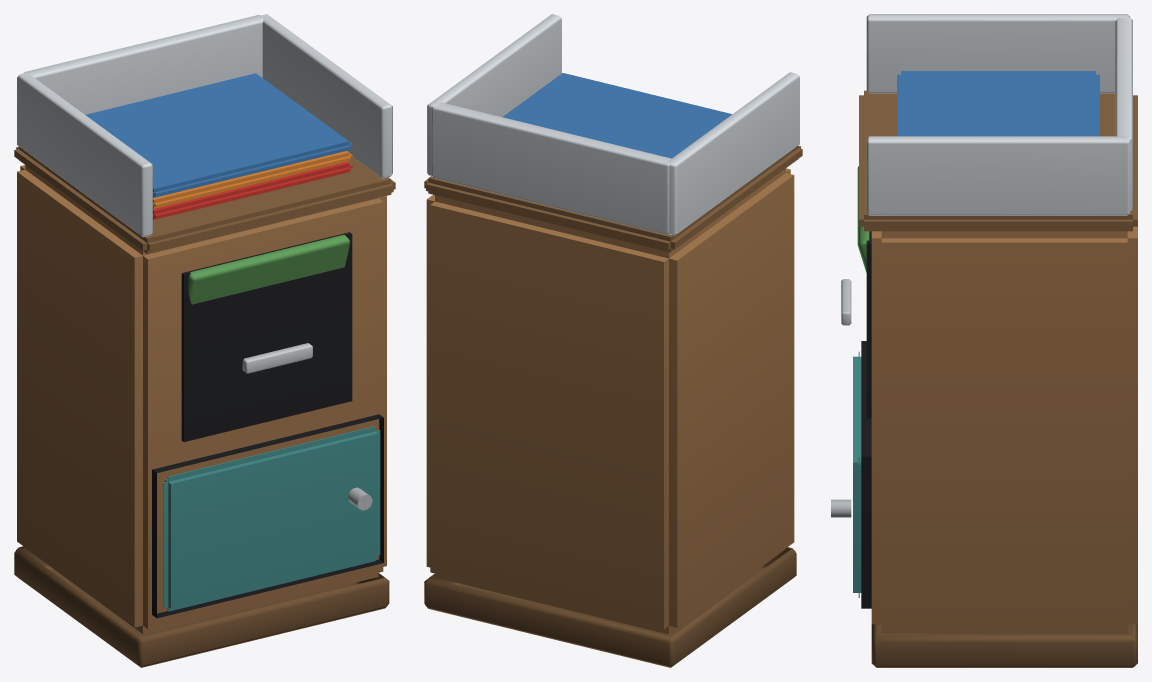
Rendered from SM_TrashStation_Tray_01.glb.
3 renders of one model, left to right at view 1: azimuth 30°, elevation 25°; view 2: azimuth 150°, elevation 25°; view 3: azimuth 270°, elevation 25°, orthographic. The views are drawn at different scales.
Parts seen in each view (by area): view 1: SM_TrashStation_Tray_01; view 2: SM_TrashStation_Tray_01; view 3: SM_TrashStation_Tray_01.
Part boxes in pixels (box(x1,y1,x2,y2)): SM_TrashStation_Tray_01: box(14, 14, 395, 667); SM_TrashStation_Tray_01: box(424, 14, 802, 667); SM_TrashStation_Tray_01: box(831, 14, 1137, 667).
Size of the model in its own units: 0.6 by 1.15 by 0.605.
1 material, 1 textured.
